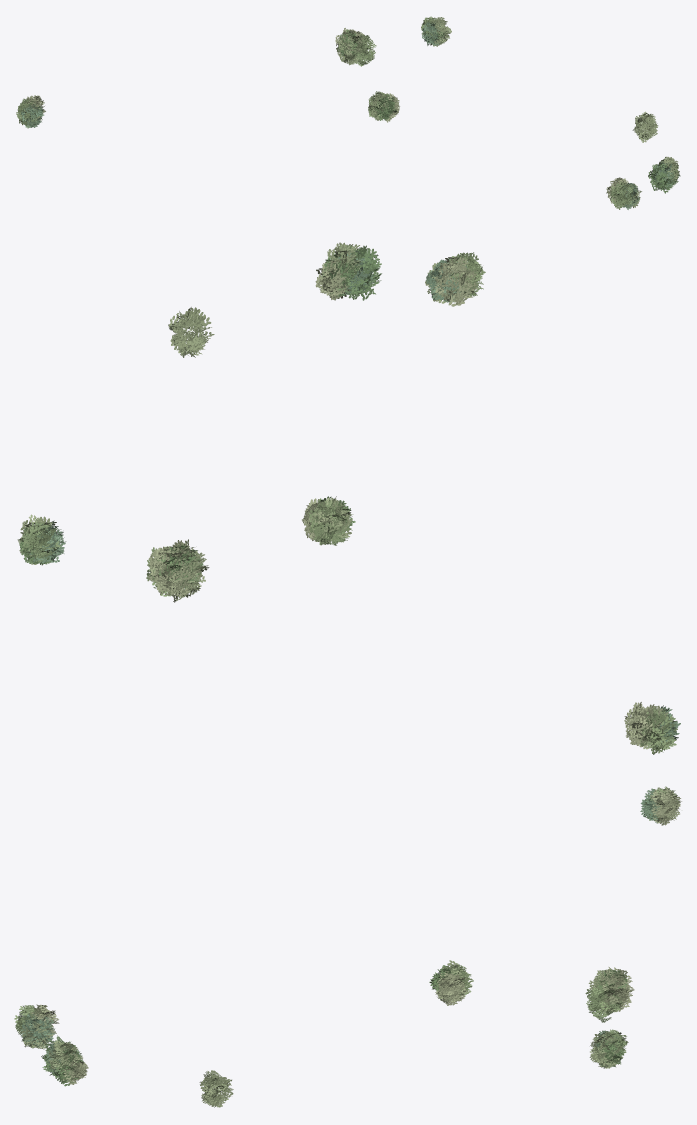
File: campus-tree--3_-3-near.glb
The picture shows the model from 3 angles, top to bottom: view 1: azimuth 30°, elevation 25°; view 2: azimuth 150°, elevation 25°; view 3: azimuth 270°, elevation 25°; orthographic projection. The views are drawn at different scales.
Visible parts, largest first — view 1: Campus leaf canopy; view 2: Campus leaf canopy; view 3: Campus leaf canopy.
Boxes of the visible parts, box(x1,y1,x2,y2) form: Campus leaf canopy: box(16, 16, 680, 209); Campus leaf canopy: box(17, 242, 680, 754); Campus leaf canopy: box(14, 786, 681, 1107).
Bounding box in the file's own units: 75.26 × 6.41 × 70.18.
1 material, 1 textured.
